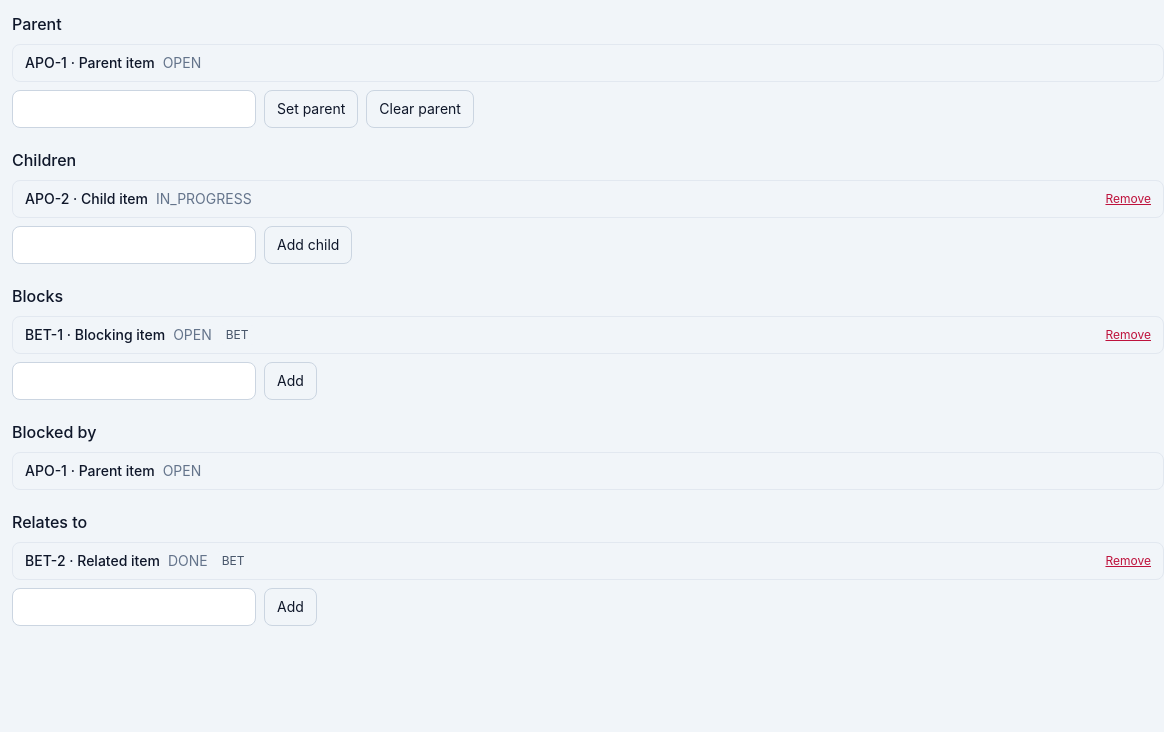
Test: LinksTab › scopes and excludes existing links from Child item
Step 1. Type "item" into the dropdown named "Child item" → (134, 245), box [12,226,256,264]
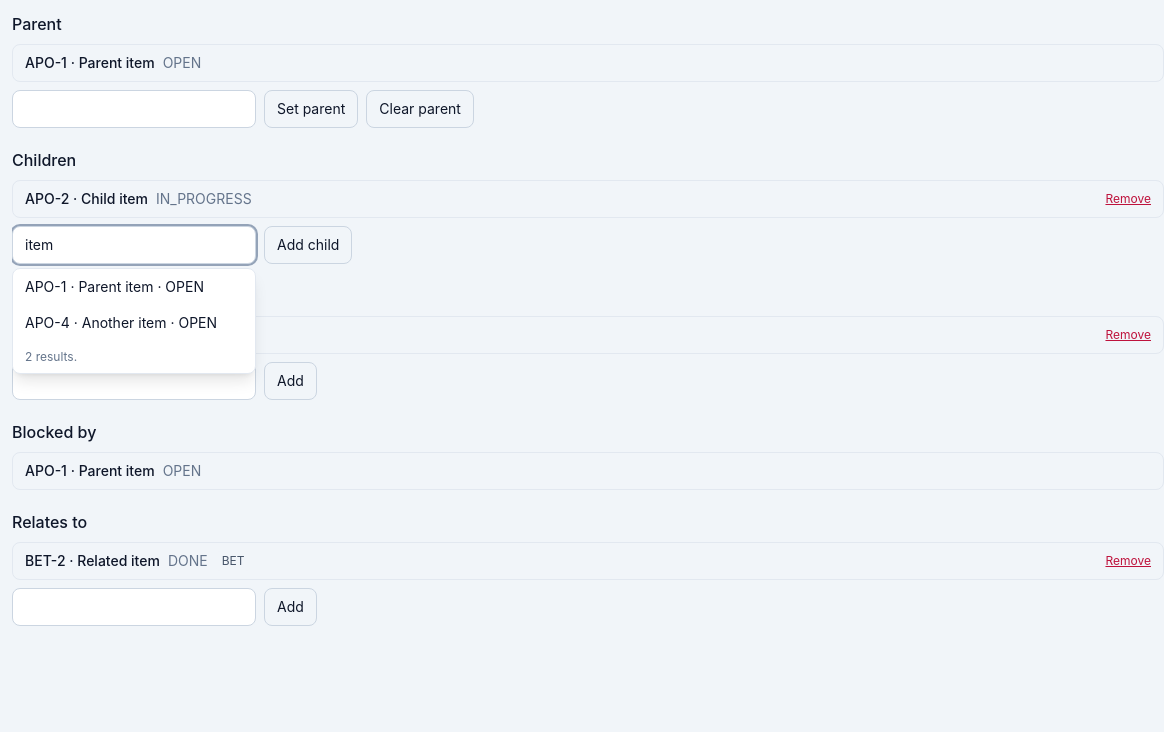
Now the option "APO-4 · Another item · OPEN" is shown, box [25,314,217,331]
